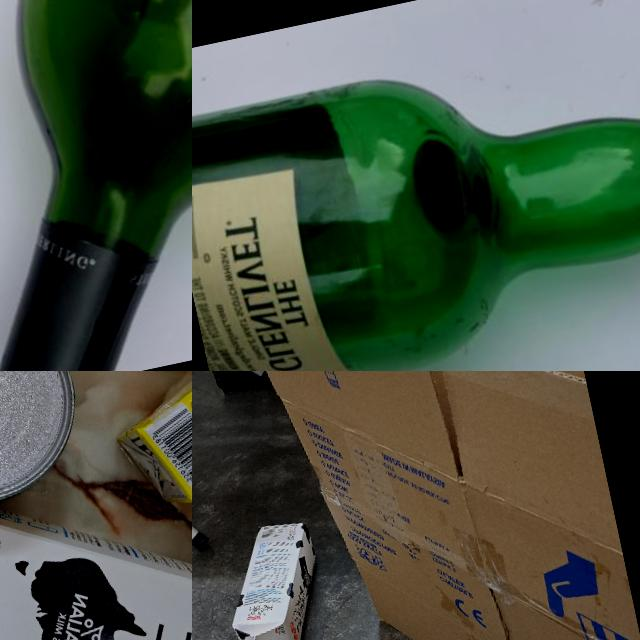caixinha: (0, 412, 192, 640), (212, 515, 338, 640), (97, 371, 192, 520)
garrafa de vidro: (192, 0, 640, 371), (0, 0, 192, 371)
lata: (0, 371, 91, 521)
papelão: (217, 371, 640, 640)
